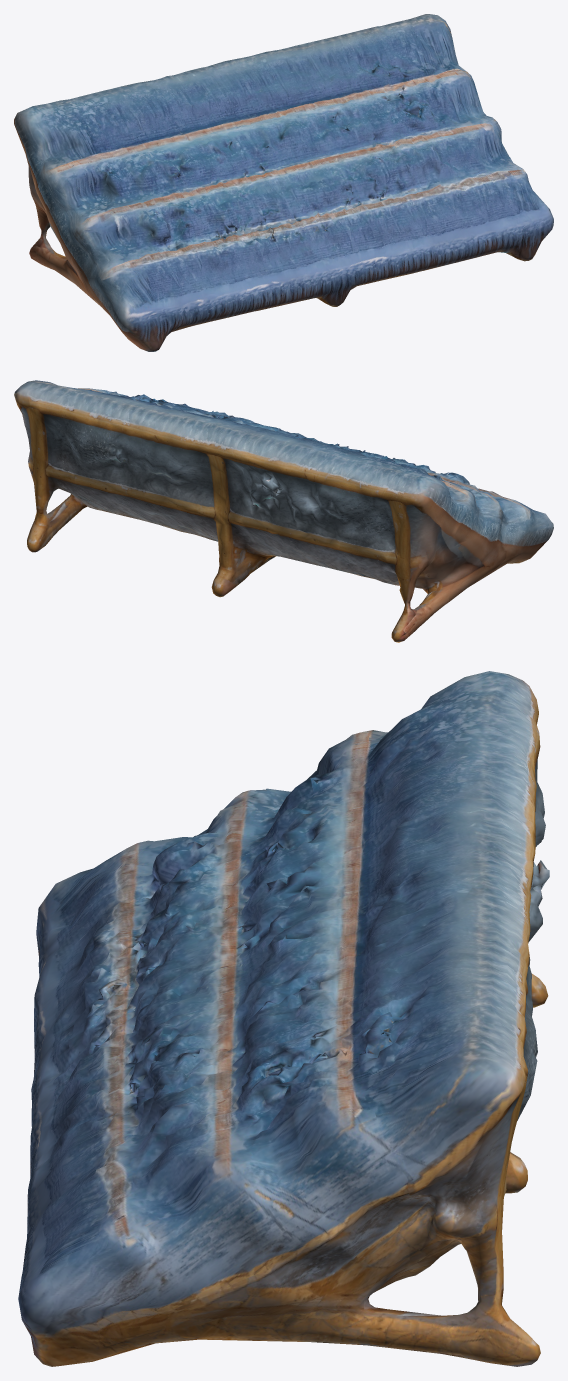
The model's file is A_tribune_for_icy_spo_0805084249_refine.fbx.
3 renders of one model, top to bottom at view 1: azimuth 30°, elevation 25°; view 2: azimuth 150°, elevation 25°; view 3: azimuth 270°, elevation 25°, orthographic. The views are drawn at different scales.
Parts seen in each view (by area): view 1: Mesh_0; view 2: Mesh_0; view 3: Mesh_0.
Boxes of the visible parts, bbox=[...] form: Mesh_0: bbox=[14, 14, 553, 351]; Mesh_0: bbox=[14, 380, 553, 642]; Mesh_0: bbox=[18, 671, 549, 1366].
Bounding box in the file's own units: 120 × 43.73 × 64.16.
Materials: 1 (1 with a texture image).
